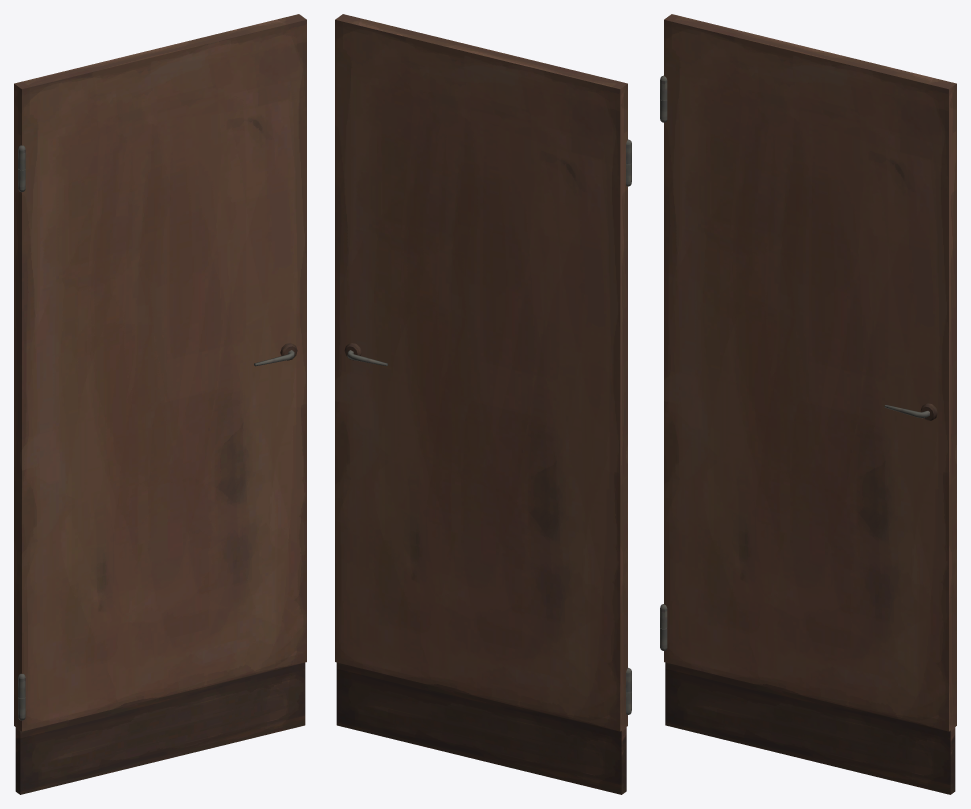
Rendered from Puerta.obj.
3 renders of one model, left to right at view 1: azimuth 30°, elevation 25°; view 2: azimuth 150°, elevation 25°; view 3: azimuth 330°, elevation 25°, orthographic.
Visible parts, largest first — view 1: Puerta; view 2: Puerta; view 3: Puerta.
Boxes of the visible parts, x1,y1,x2,y2 form: Puerta: (14, 14, 306, 794); Puerta: (335, 14, 631, 794); Puerta: (660, 14, 956, 794).
Bounding box in the file's own units: 0.8774 × 2.05 × 0.1197.
Materials: 1 (1 with a texture image).
